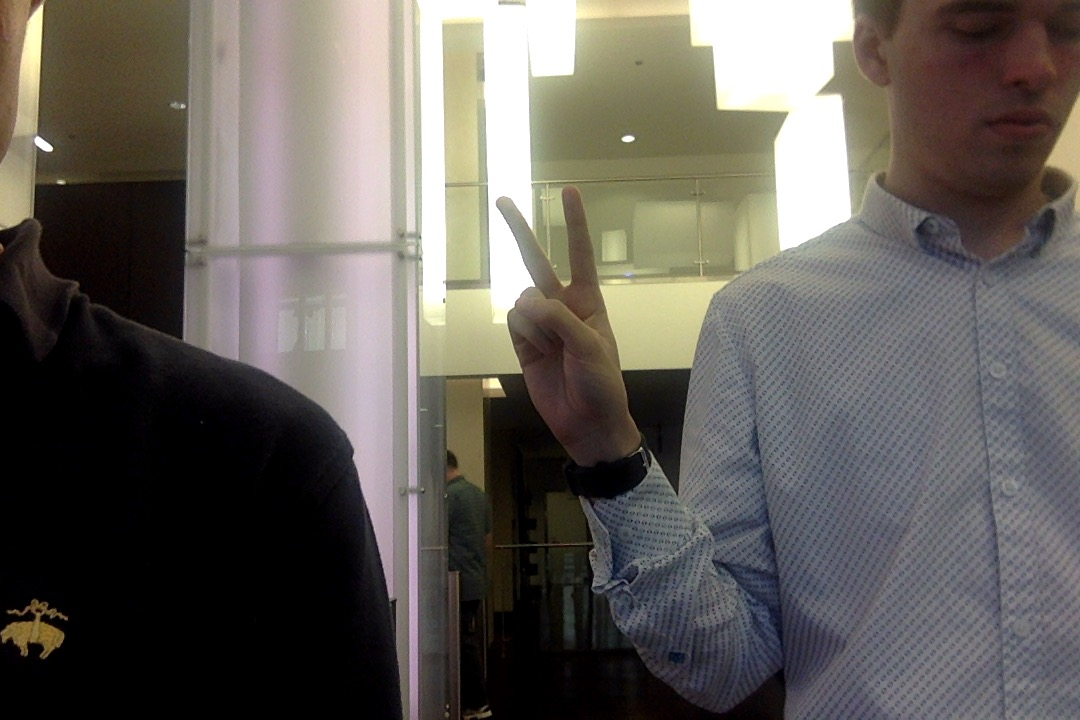y: (477, 180, 638, 438)
